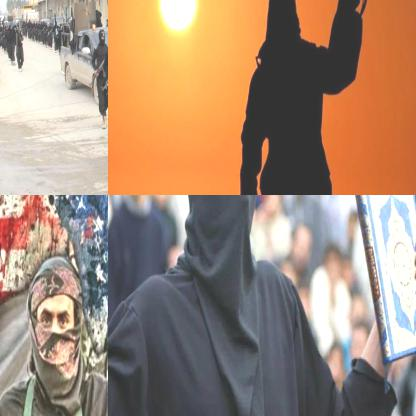rifle: (99, 54, 107, 96)
